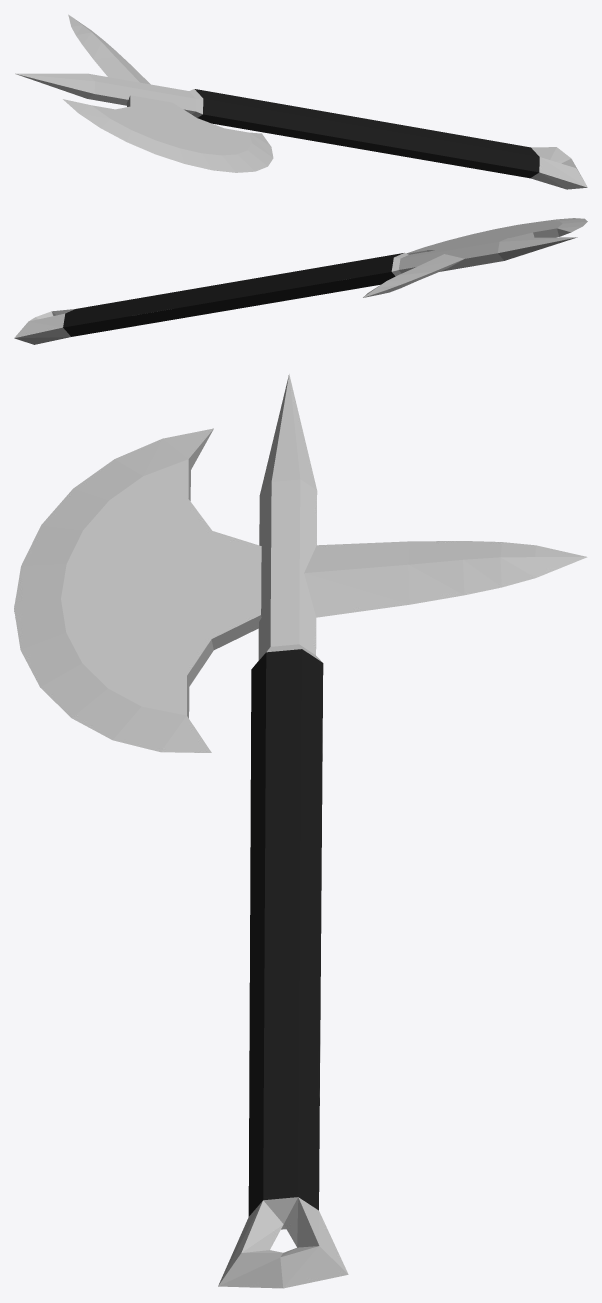
Rendered from axe.obj.
3 views of the same model, one above another, from view 1: azimuth 30°, elevation 25°; view 2: azimuth 150°, elevation 25°; view 3: azimuth 270°, elevation 25° (orthographic). The views are drawn at different scales.
Visible parts, largest first — view 1: KingdomAxe_Cube.003; view 2: KingdomAxe_Cube.003; view 3: KingdomAxe_Cube.003.
Boxes of the visible parts, <box> form: KingdomAxe_Cube.003: <box>15,14,587,189</box>; KingdomAxe_Cube.003: <box>14,218,587,344</box>; KingdomAxe_Cube.003: <box>14,374,587,1288</box>.
Size of the model in its own units: 2.06 by 0.8422 by 1.01.
Materials: 2 (2 with a texture image).
